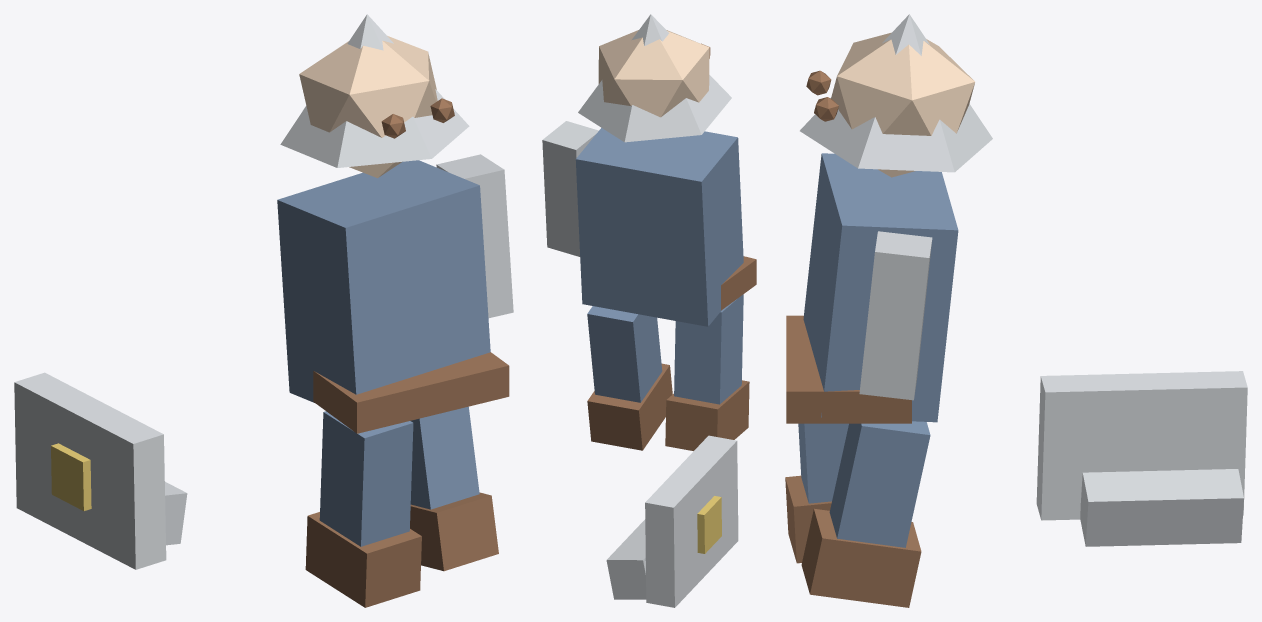
Rendered from npcpose_guard_attack_06.glb.
3 renders of one model, left to right at view 1: azimuth 30°, elevation 25°; view 2: azimuth 150°, elevation 25°; view 3: azimuth 270°, elevation 25°, orthographic. The views are drawn at different scales.
Visible parts, largest first — view 1: npcpose; view 2: npcpose; view 3: npcpose.
Part boxes in pixels (<box>): npcpose: <box>14,14,513,607</box>; npcpose: <box>542,14,756,607</box>; npcpose: <box>785,14,1247,607</box>.
Bounding box in the file's own units: 0.9555 × 1.65 × 1.18.
